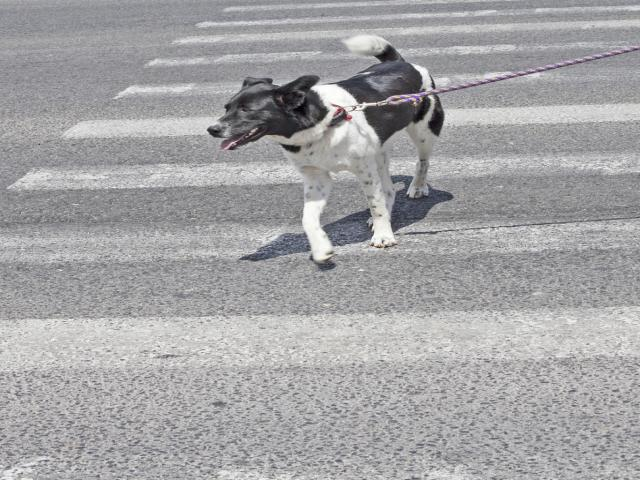Dog: (204, 34, 446, 266)
